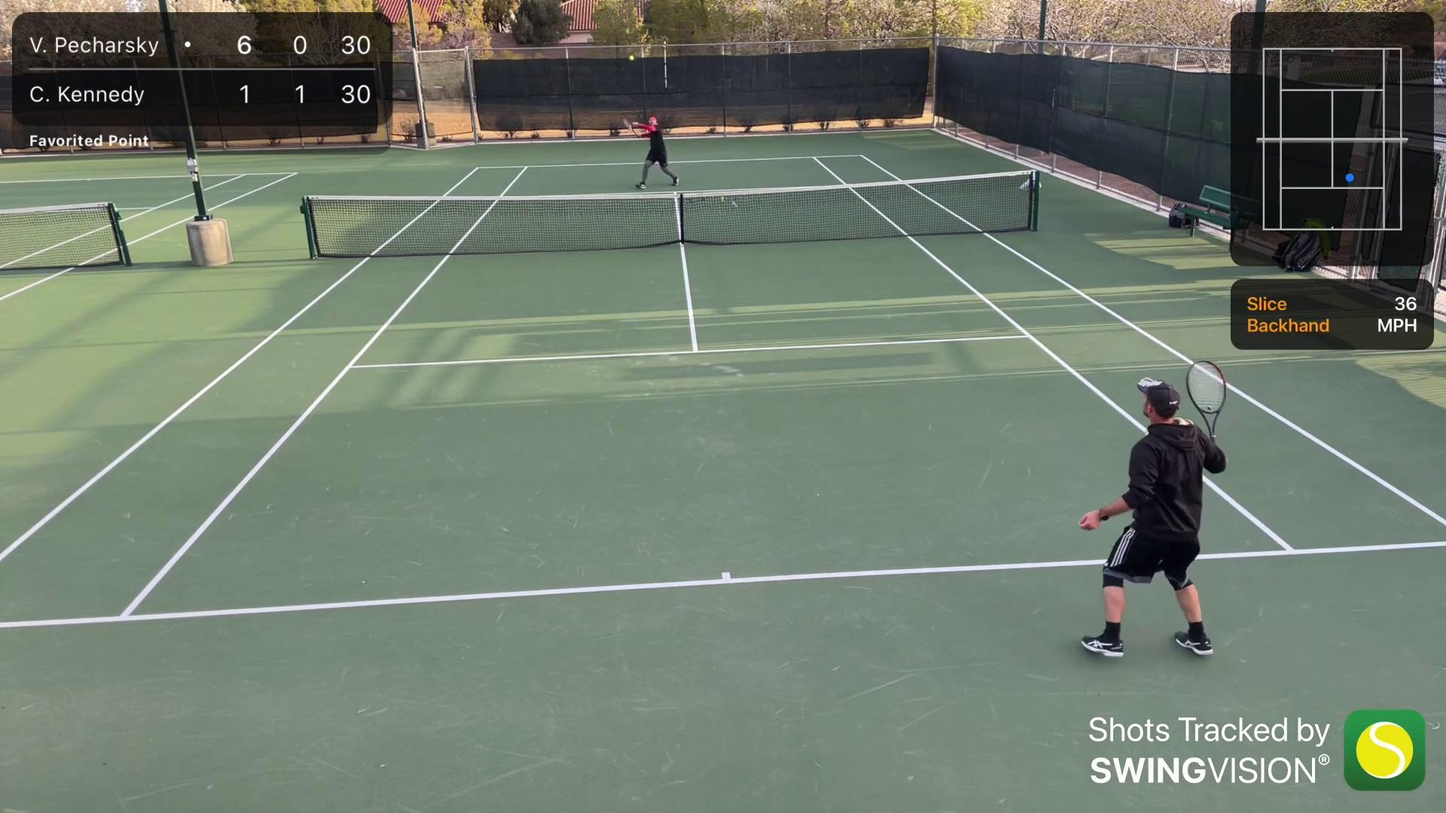ball: (628, 55, 634, 62)
